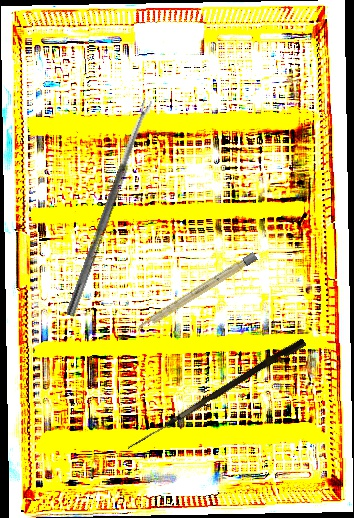Hook Surgical: (127, 334, 307, 458)
Scalpel Handle: (135, 251, 258, 334)
Surgical Spoon: (65, 98, 154, 318)
